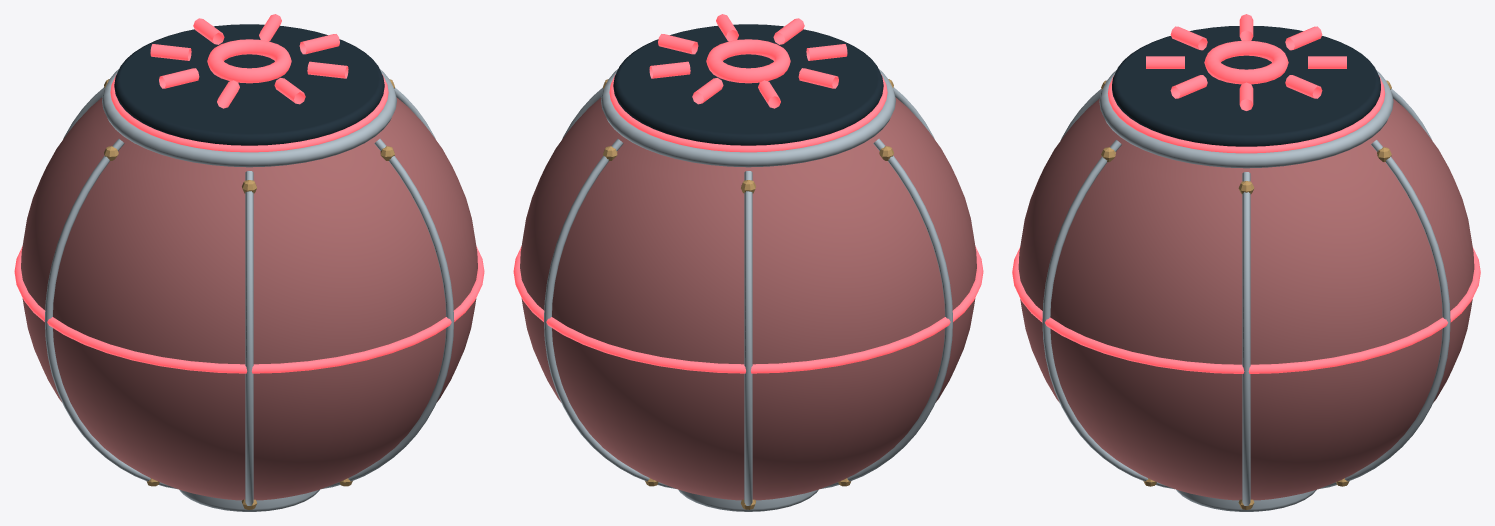
Rendered from pickup-nova.glb.
3 renders of one model, left to right at view 1: azimuth 30°, elevation 25°; view 2: azimuth 150°, elevation 25°; view 3: azimuth 270°, elevation 25°, orthographic.
Parts seen in each view (by area): view 1: pickup nova; view 2: pickup nova; view 3: pickup nova.
Part boxes in pixels (x1,y1,x2,y2): pickup nova: [14, 14, 484, 511]; pickup nova: [513, 14, 983, 511]; pickup nova: [1012, 14, 1480, 511].
Bounding box in the file's own units: 2.06 × 2.09 × 2.05.
